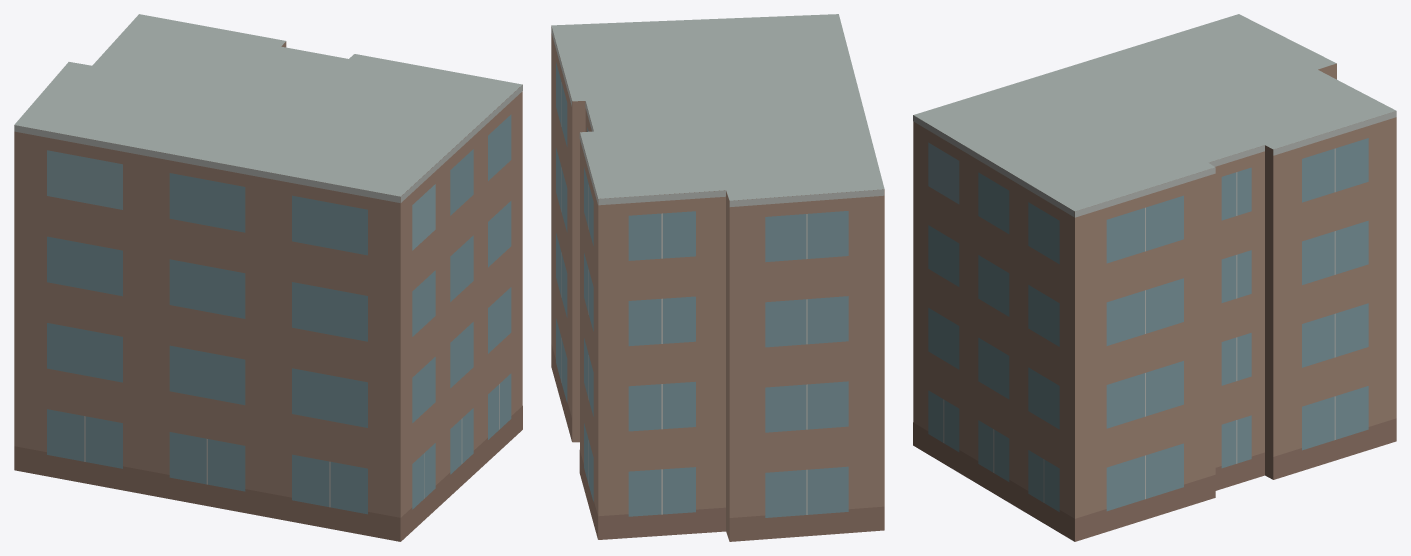
The model's file is survey-upis-32820284.glb.
3 views of the same model, side by side, from view 1: azimuth 30°, elevation 25°; view 2: azimuth 150°, elevation 25°; view 3: azimuth 270°, elevation 25° (orthographic). The views are drawn at different scales.
Visible parts, largest first — view 1: survey-upis-32820284.tmp; view 2: survey-upis-32820284.tmp; view 3: survey-upis-32820284.tmp.
Boxes of the visible parts, <box> form: survey-upis-32820284.tmp: <box>14,14,522,541</box>; survey-upis-32820284.tmp: <box>551,14,884,541</box>; survey-upis-32820284.tmp: <box>913,14,1396,541</box>.
Size of the model in its own units: 16.55 by 12.91 by 17.13.
